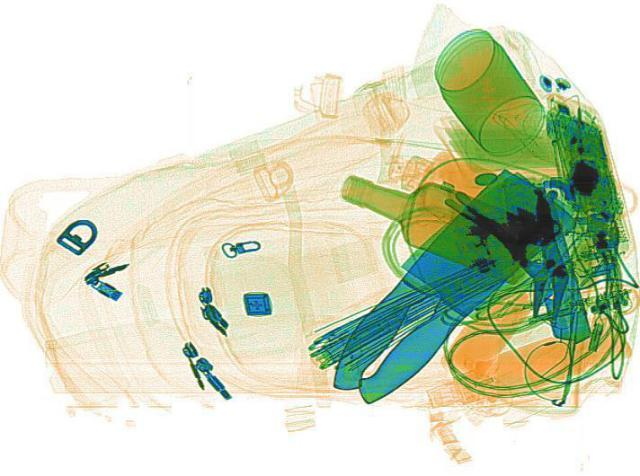Knife: (288, 163, 590, 407), (298, 164, 590, 411)
